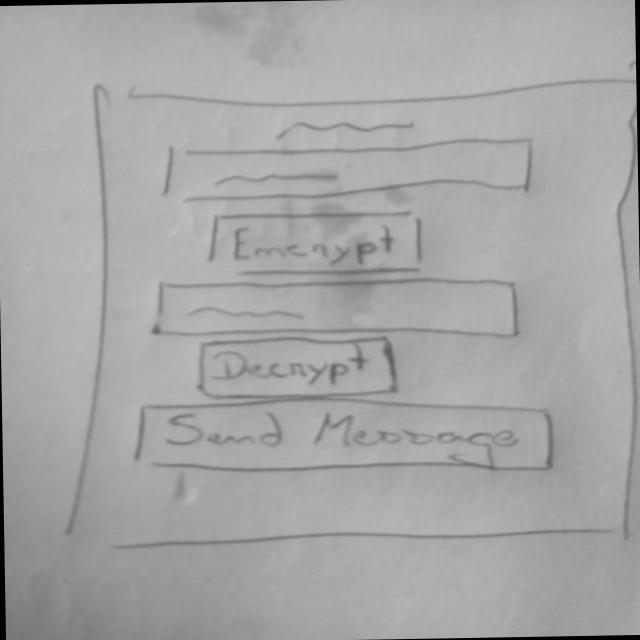button: (130, 392, 569, 483), (200, 206, 428, 278), (190, 331, 407, 404)
container: (60, 73, 640, 557)
input: (151, 274, 529, 346), (157, 139, 547, 203)
text: (258, 109, 426, 147)
